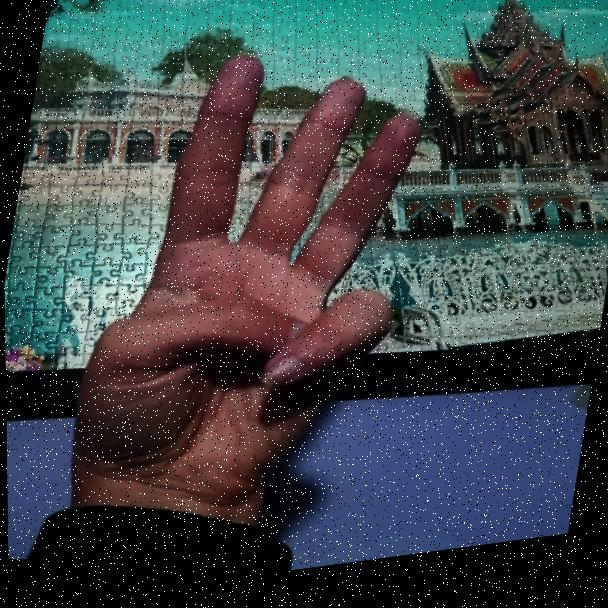five: (41, 12, 462, 558)
